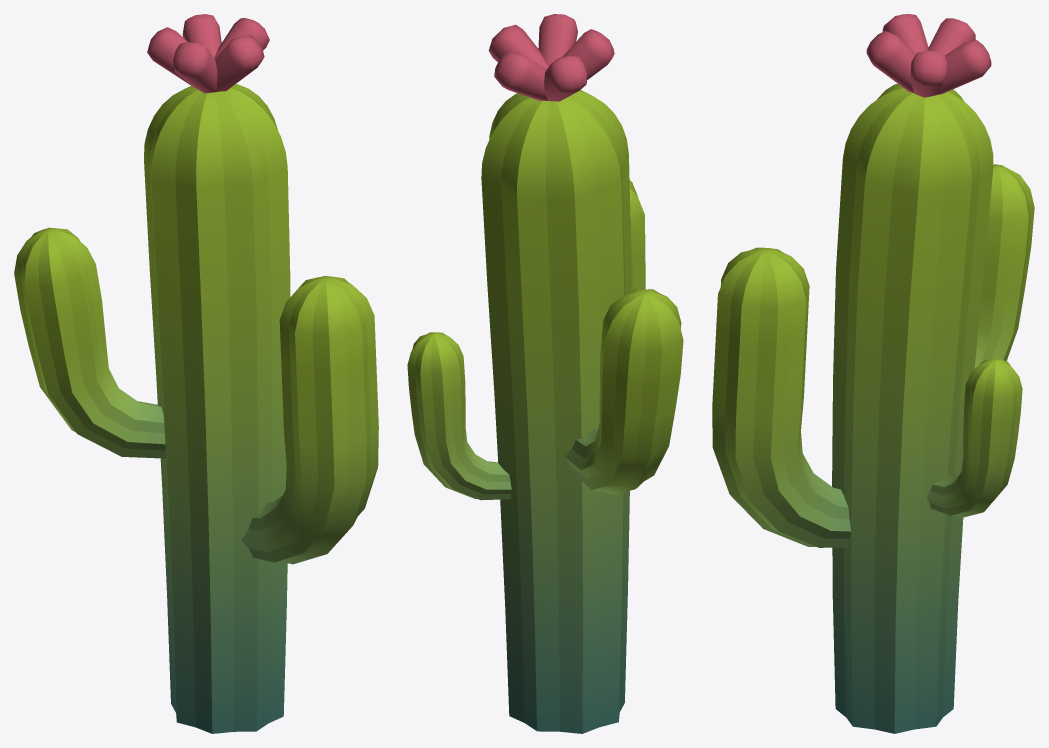
3 renders of one model, left to right at view 1: azimuth 30°, elevation 25°; view 2: azimuth 150°, elevation 25°; view 3: azimuth 270°, elevation 25°, orthographic. The views are drawn at different scales.
Parts seen in each view (by area): view 1: LOD 0_7895142726789826799_f747010238922ae448abd02d66270030; view 2: LOD 0_7895142726789826799_f747010238922ae448abd02d66270030; view 3: LOD 0_7895142726789826799_f747010238922ae448abd02d66270030.
Boxes of the visible parts, x1,y1,x2,y2 form: LOD 0_7895142726789826799_f747010238922ae448abd02d66270030: (14,14,378,733); LOD 0_7895142726789826799_f747010238922ae448abd02d66270030: (407,14,683,733); LOD 0_7895142726789826799_f747010238922ae448abd02d66270030: (712,14,1034,733).
Bounding box in the file's own units: 1.09 × 2.67 × 1.15.
